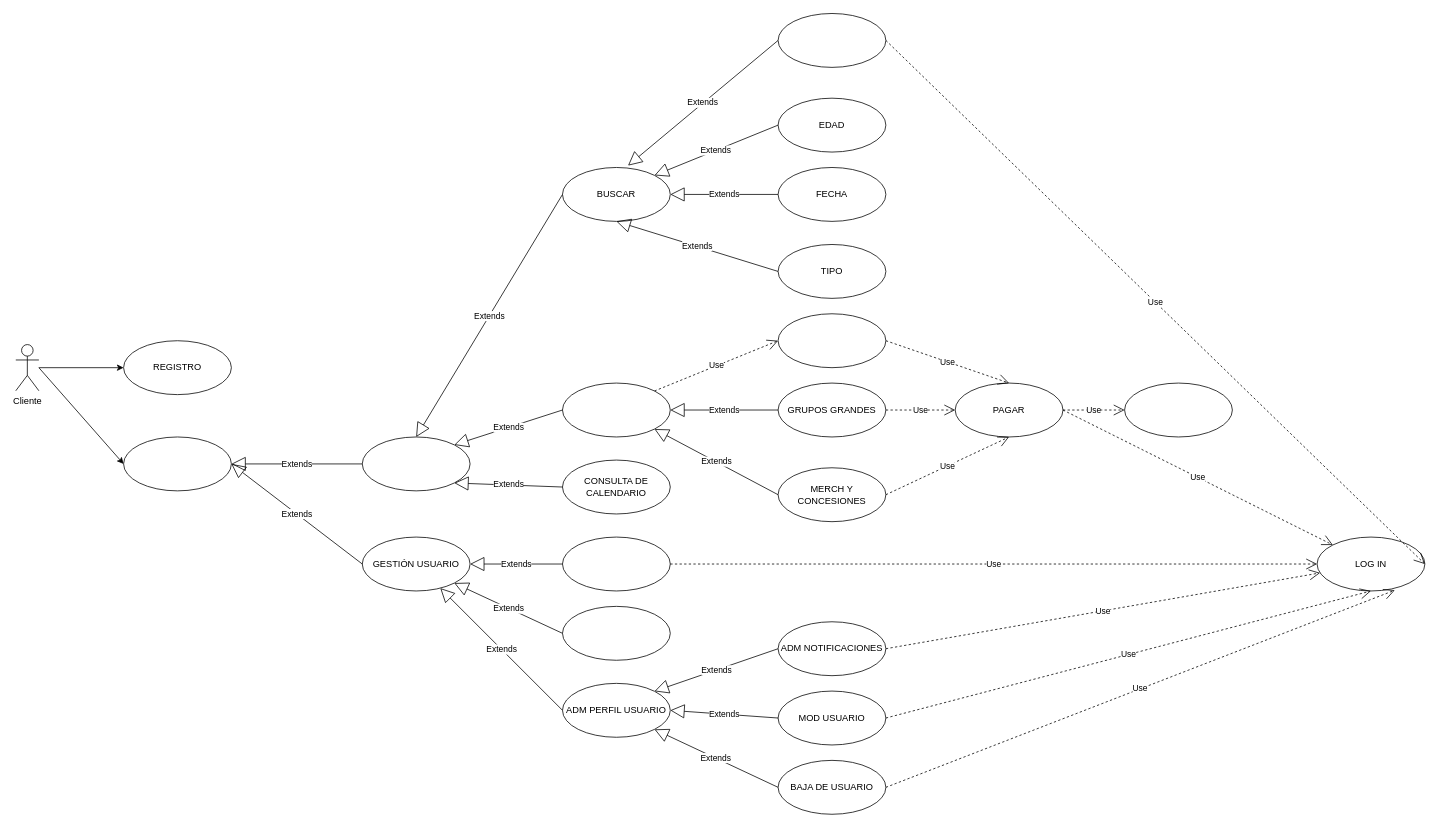
Image size: 1449x828. Some labels were removed from this diagram. Here are the shapes that lost their labels. From the top down, the box of each, then its label:
(777, 13, 886, 67): FAVORITOS
(777, 313, 886, 368): SELECCIÓN DE ASIENTOS
(562, 382, 670, 437): COMPRA DE ENTRADAS
(1124, 382, 1232, 437): INTRODUCIR CORREO
(123, 436, 231, 491): EXPLORACIÓN DE FUNCIONES
(362, 436, 470, 491): CONSULTAR ESPECTÁCULOS
(562, 536, 670, 591): VER HISTORIAL / TRANSACCIONES
(562, 606, 670, 660): REALIZAR RESEÑA
